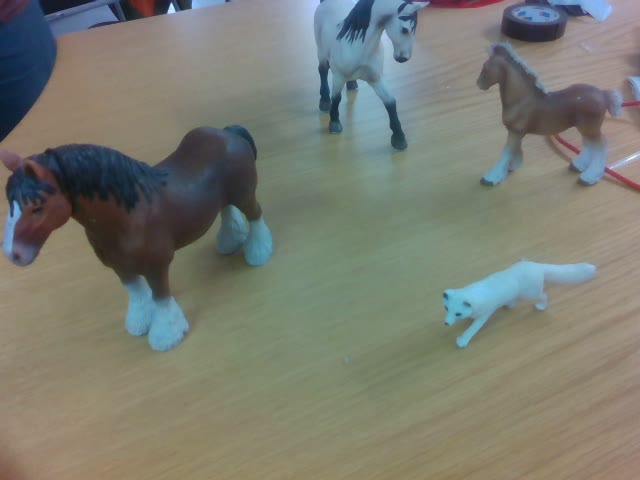toy: (1, 125, 275, 352), (474, 38, 640, 190), (312, 1, 428, 151), (440, 259, 597, 350)
